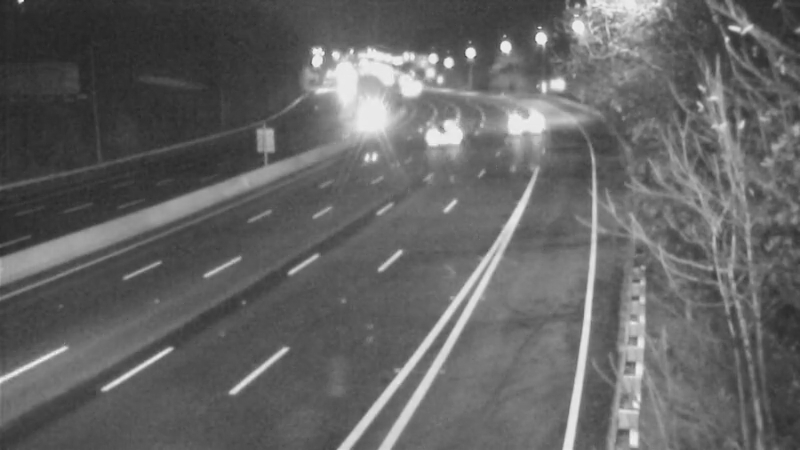vehicle: (497, 98, 547, 148), (426, 107, 476, 157), (340, 89, 390, 139)
